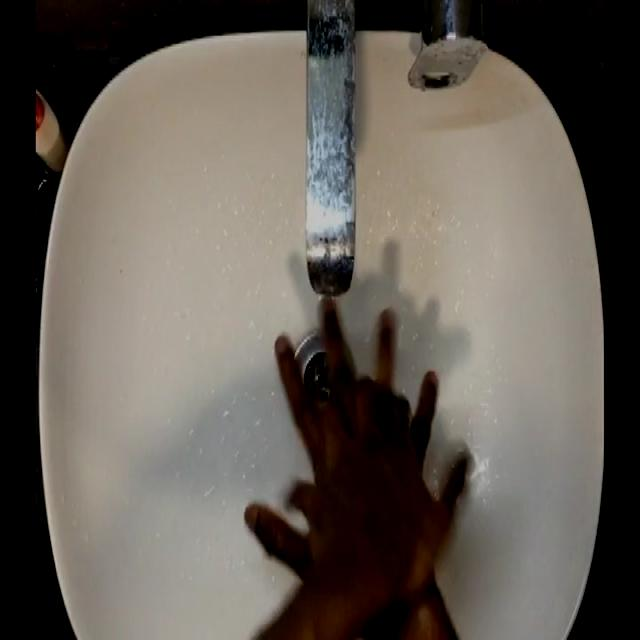step_2: (238, 292, 474, 582)
